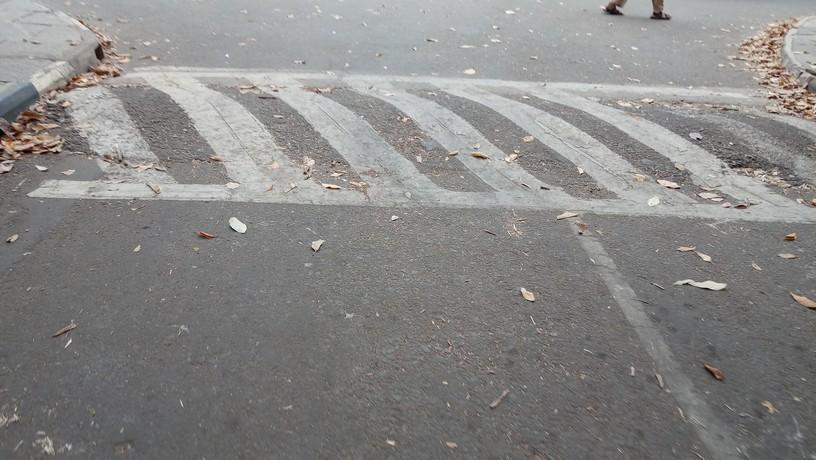speedbreaker: (0, 63, 816, 222)
